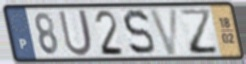2: (94, 9, 125, 57)
8: (34, 11, 60, 56)
S: (121, 8, 157, 57)
U: (56, 8, 94, 59)
V: (147, 6, 181, 57)
Z: (178, 7, 221, 56)
